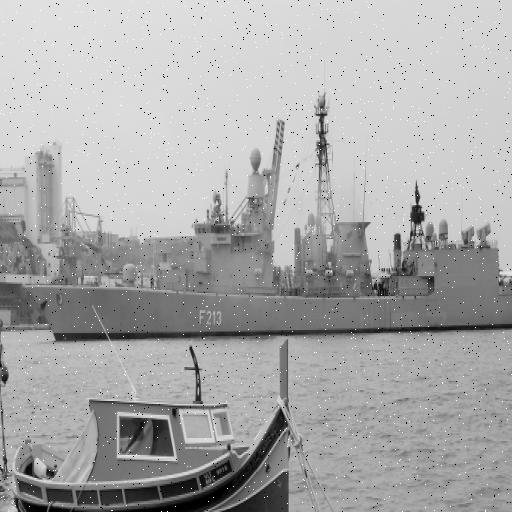Fragata: (16, 87, 512, 361)
